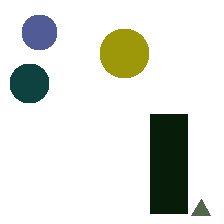circle: (100, 29, 148, 77), (10, 64, 48, 102), (22, 15, 56, 49)
rectangle: (150, 114, 187, 213)
triangle: (191, 199, 210, 215)
